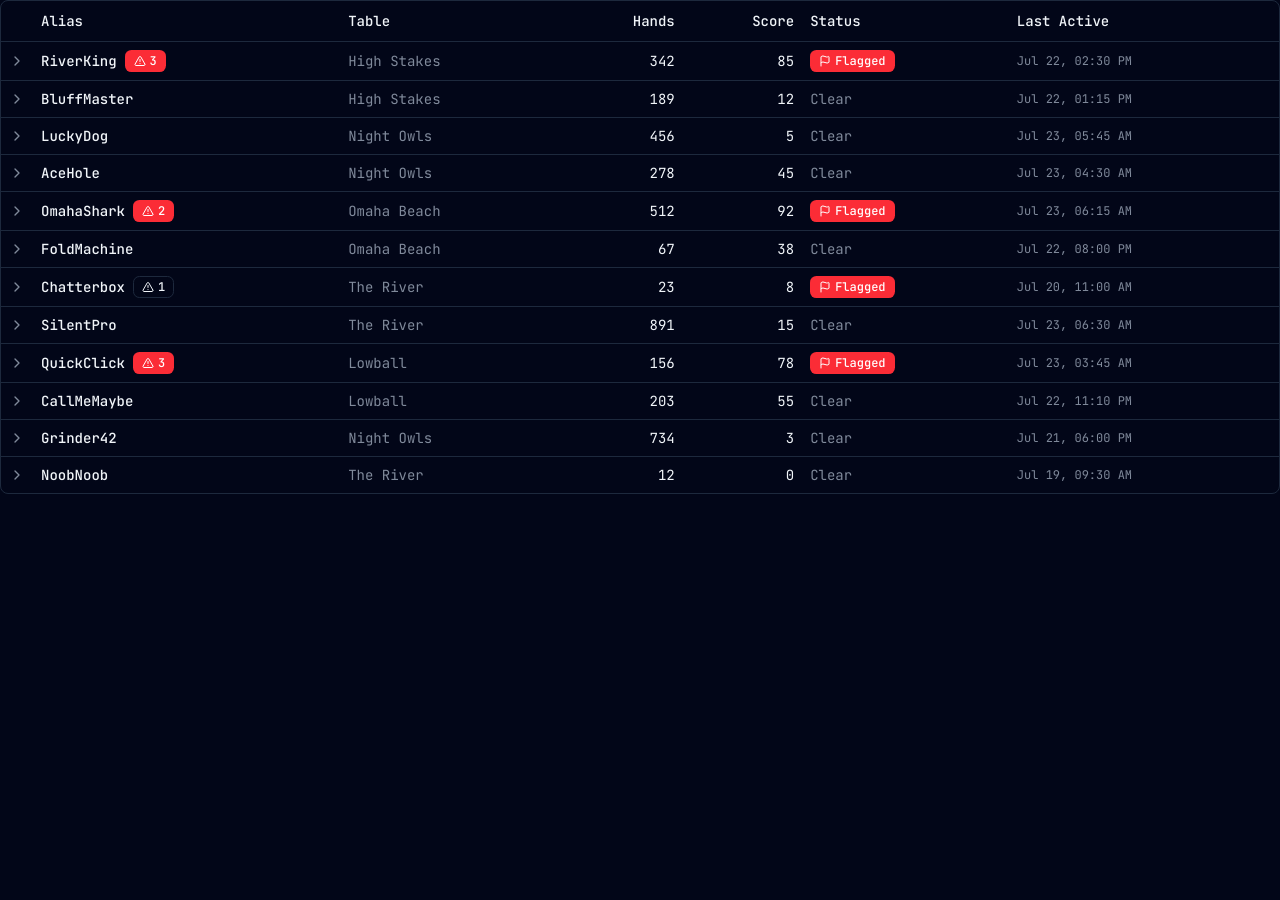
Test: PlayersDirectory expanded row › shows Clear Flag button for already flagged player
The width and height of the screenshot is (1280, 900).
# Click on handsPlayed cell to expand (alias is now a Link)
Click the text "342" at [662, 60], box 563,41 -> 683,80
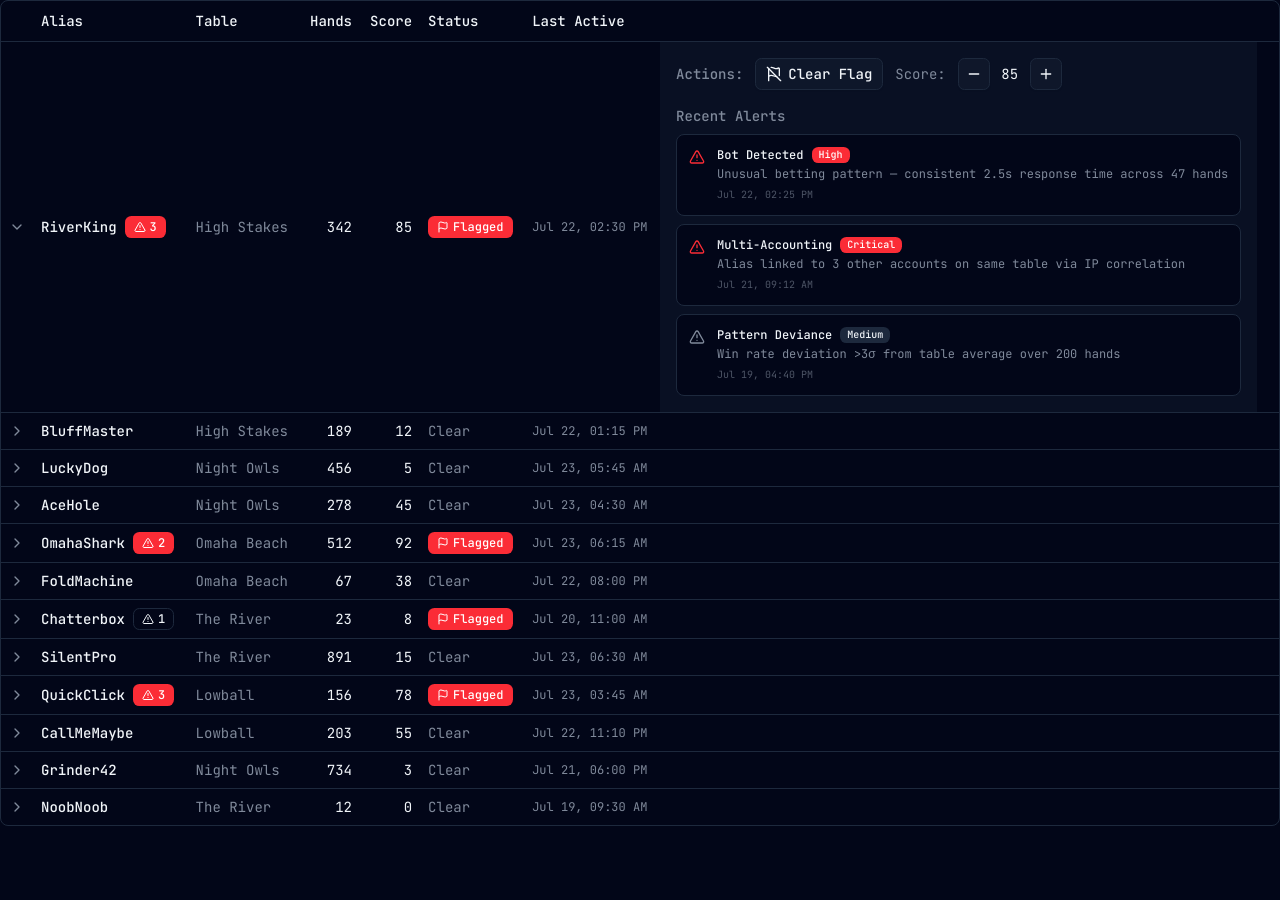
Expected: the button "Clear Flag" is shown, 755,58 -> 883,90
